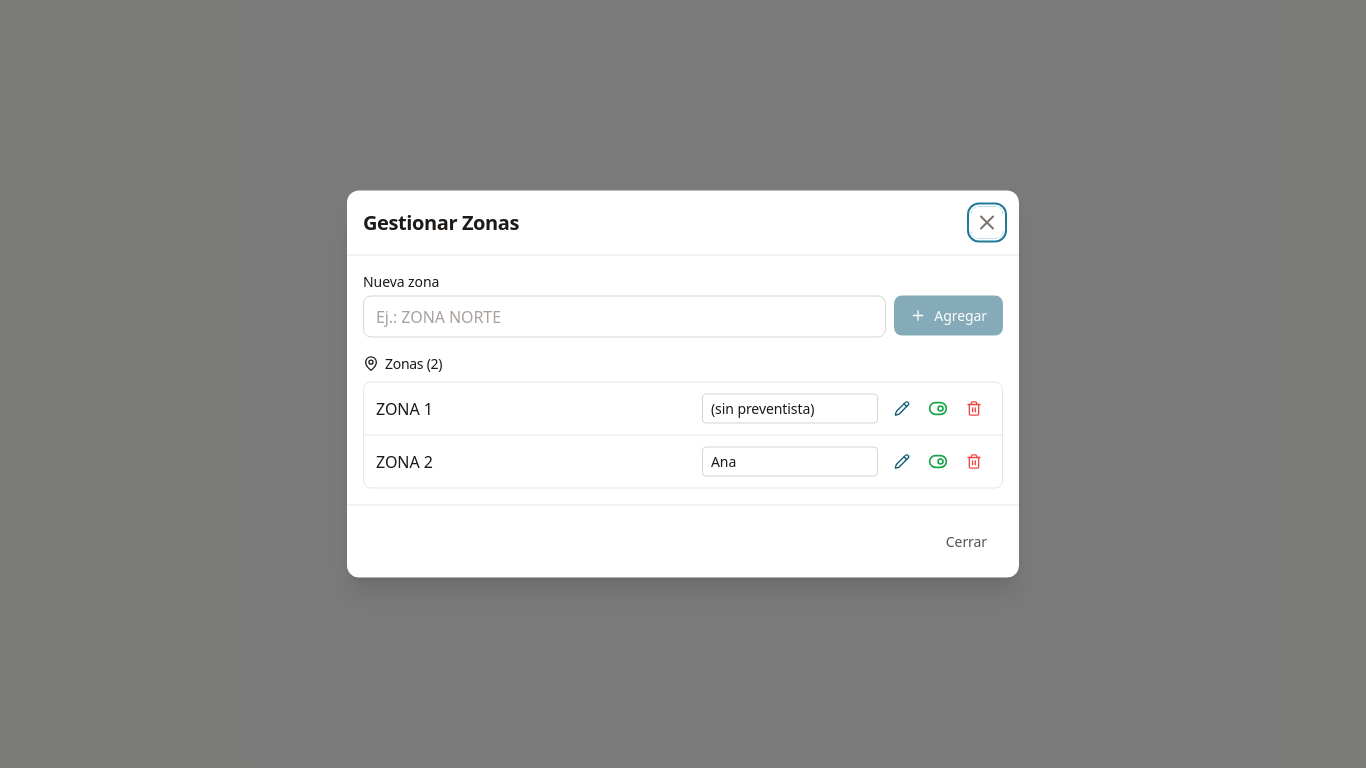
Test case: ModalZonas · preventista de la zona › quitar el preventista avisa que los clientes conservan el suyo
Select "(sin preventista)" in the dropdown named "Preventista de ZONA 2": (790, 462) top-left (702, 446), bottom-right (878, 476)
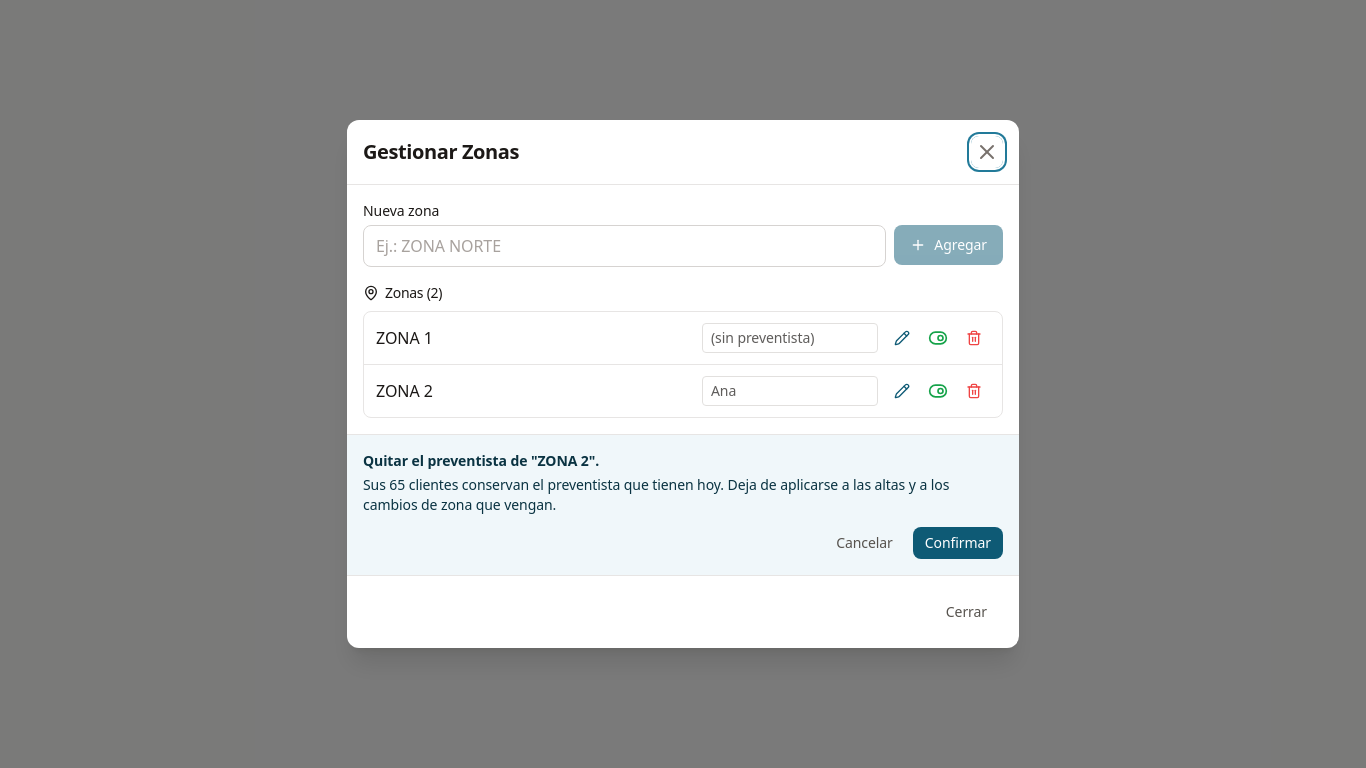
Result: the dialog shows "Quitar el preventista de \"ZONA 2\"." at top-left (363, 451), bottom-right (599, 470)
